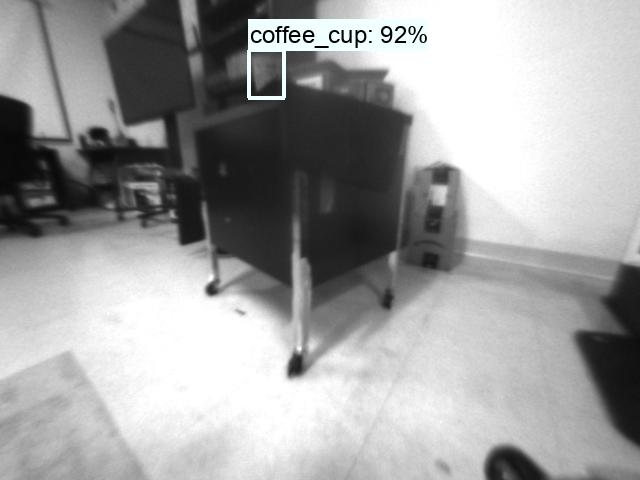coffee_cup: (250, 52, 283, 95)
